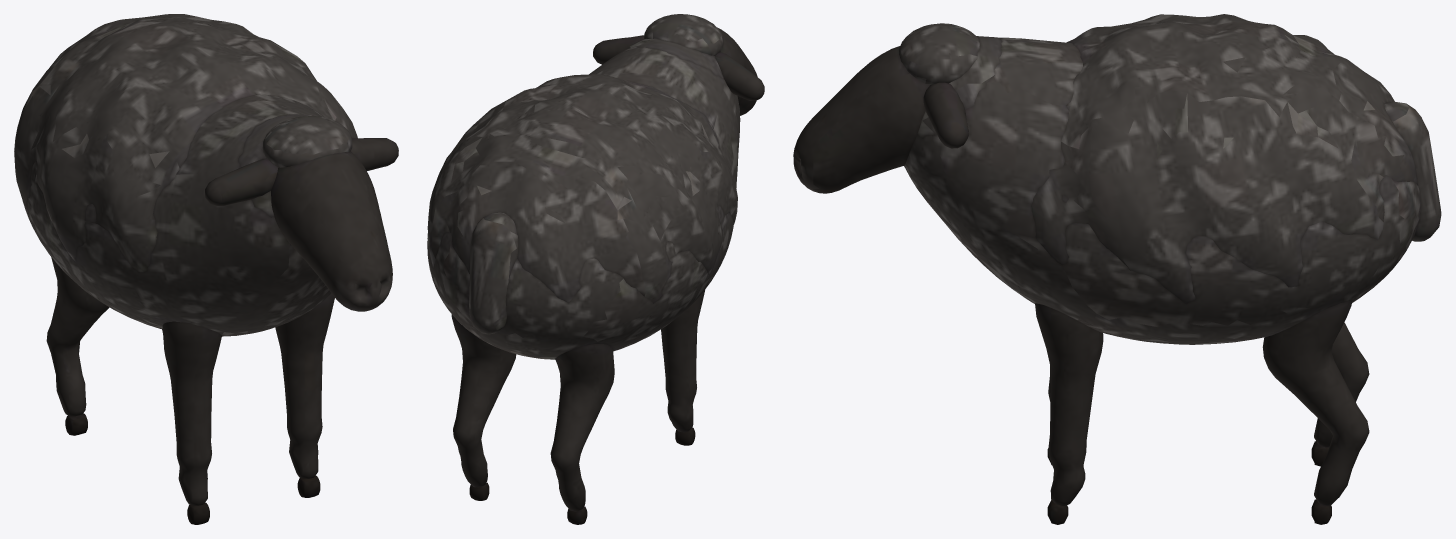
Rendered from animal_karakul.glb.
3 views of the same model, side by side, from view 1: azimuth 30°, elevation 25°; view 2: azimuth 150°, elevation 25°; view 3: azimuth 270°, elevation 25° (orthographic). The views are drawn at different scales.
Parts seen in each view (by area): view 1: animal_karakul, head, leg0, leg1, leg2; view 2: animal_karakul, leg2, leg3, head, tail, leg0; view 3: animal_karakul, head, leg3, leg1, tail, leg2.
Part boxes in pixels (x1=…): animal_karakul: x1=14, y1=14, x2=357, y2=336; head: x1=205, y1=116, x2=398, y2=311; leg0: x1=162, y1=321, x2=221, y2=524; leg1: x1=275, y1=293, x2=334, y2=497; leg2: x1=46, y1=257, x2=109, y2=435; animal_karakul: x1=427, y1=38, x2=740, y2=359; leg2: x1=550, y1=344, x2=614, y2=524; leg3: x1=451, y1=314, x2=516, y2=500; head: x1=593, y1=14, x2=764, y2=115; tail: x1=469, y1=212, x2=518, y2=334; leg0: x1=661, y1=290, x2=704, y2=445; animal_karakul: x1=904, y1=14, x2=1420, y2=344; head: x1=793, y1=23, x2=979, y2=193; leg3: x1=1262, y1=301, x2=1369, y2=524; leg1: x1=1035, y1=303, x2=1103, y2=524; tail: x1=1384, y1=101, x2=1441, y2=241; leg2: x1=1311, y1=322, x2=1369, y2=466.
Size of the model in its own units: 0.2828 by 0.4077 by 0.5169.
1 material, 1 textured.
